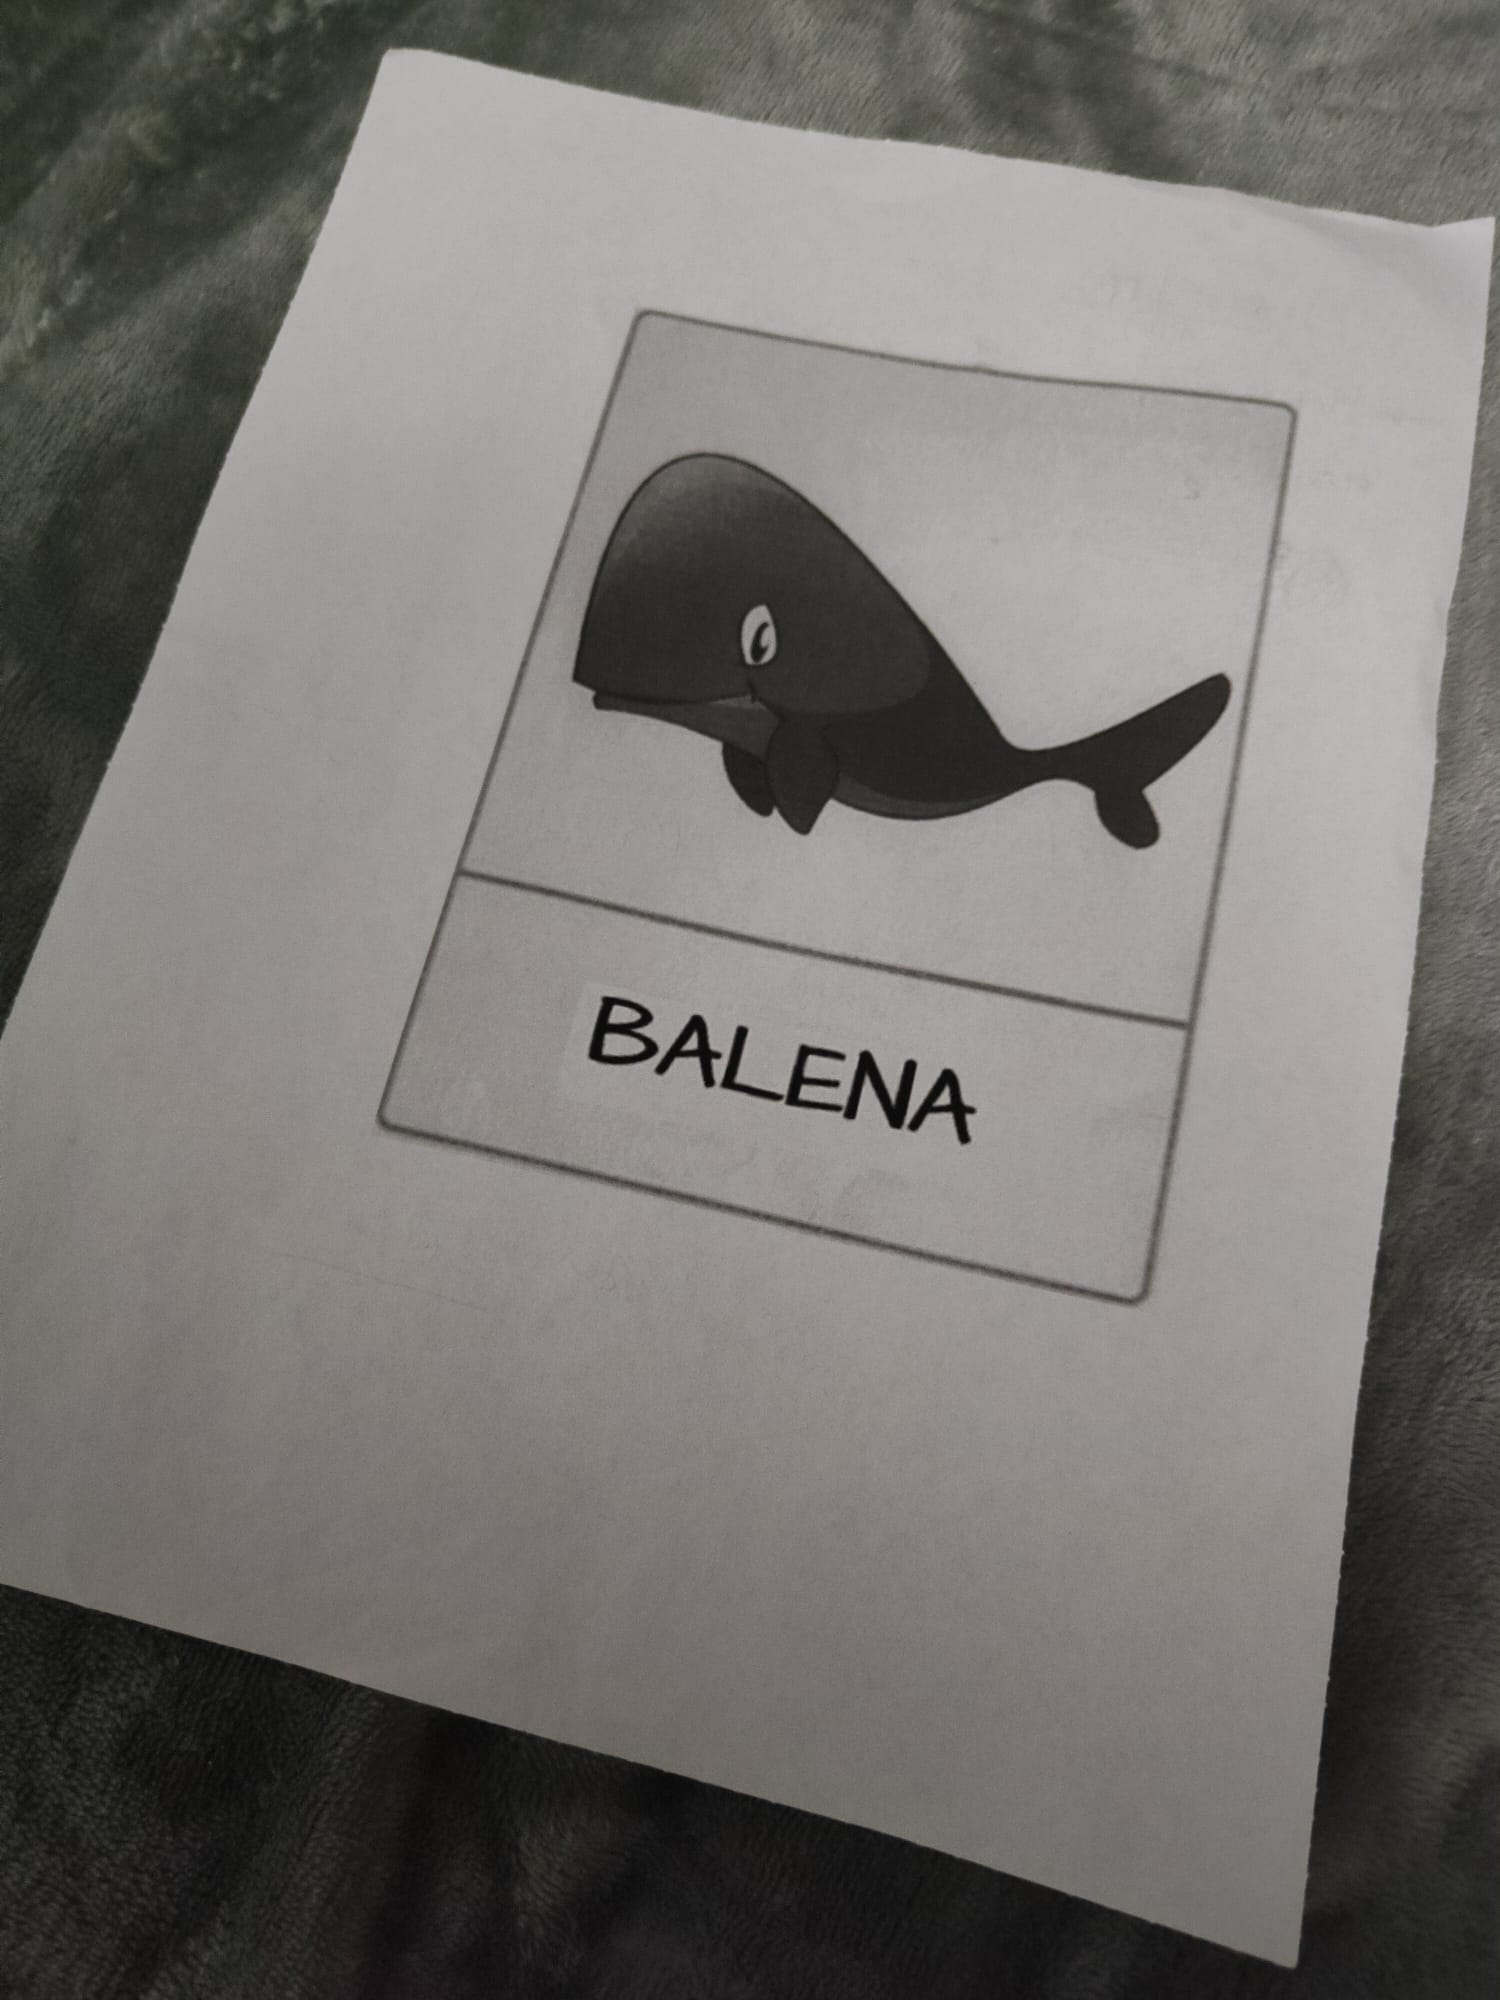balena: (550, 324, 1258, 1249)
